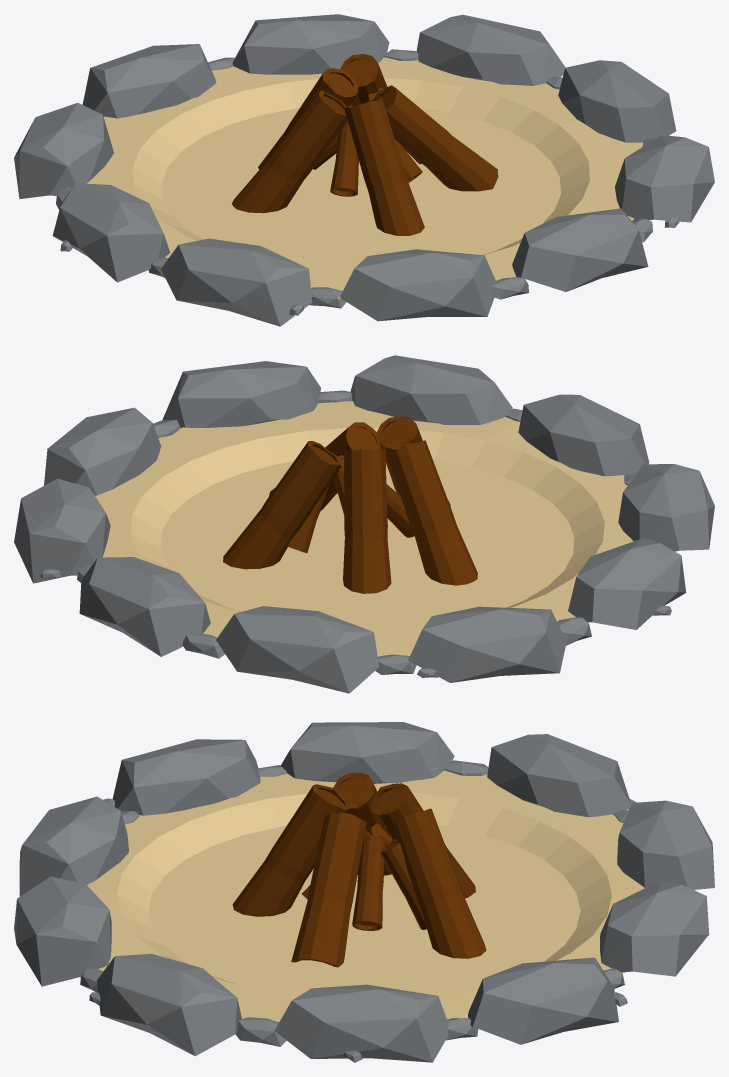
The model's file is Camp_fire.fbx.
3 views of the same model, one above another, from view 1: azimuth 30°, elevation 25°; view 2: azimuth 150°, elevation 25°; view 3: azimuth 270°, elevation 25° (orthographic). The views are drawn at different scales.
Visible parts, largest first — view 1: Cube.001, Circle, Cylinder; view 2: Cube.001, Circle, Cylinder; view 3: Cube.001, Circle, Cylinder.
Part boxes in pixels (x1=…): Cube.001: x1=14, y1=14, x2=714, y2=326; Circle: x1=87, y1=52, x2=643, y2=298; Cylinder: x1=232, y1=54, x2=498, y2=235; Cube.001: x1=14, y1=355, x2=714, y2=693; Circle: x1=95, y1=401, x2=633, y2=656; Cylinder: x1=223, y1=416, x2=477, y2=593; Cube.001: x1=14, y1=722, x2=714, y2=1062; Circle: x1=87, y1=770, x2=644, y2=1022; Cylinder: x1=232, y1=772, x2=486, y2=967.
Size of the model in its own units: 721 by 156 by 676.
